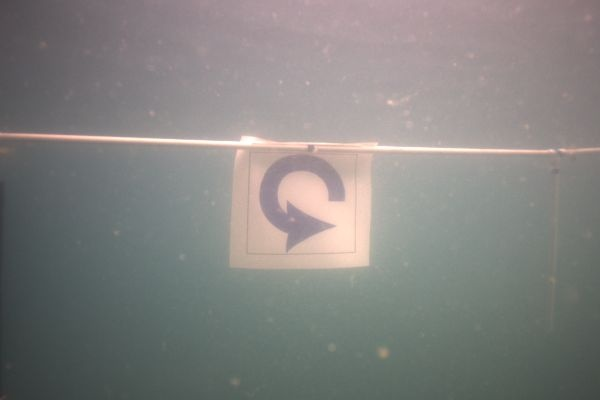gate: (0, 132, 600, 332)
gate_bleue: (229, 142, 369, 268)
